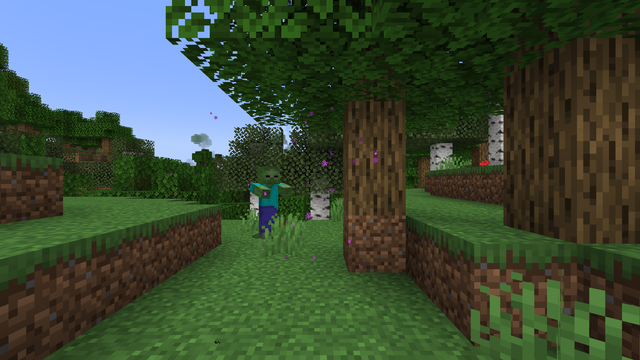zombies: (255, 168, 279, 237)
